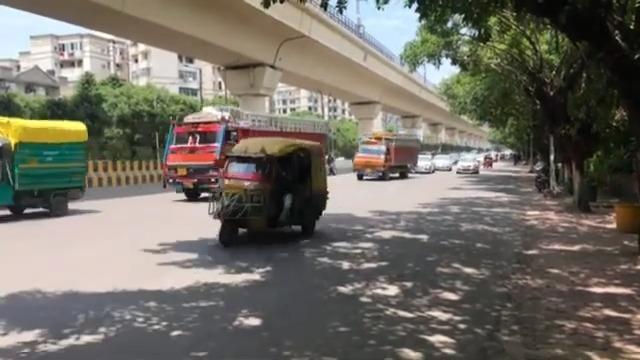Auto: (207, 125, 330, 246)
Truck: (161, 104, 329, 201), (0, 114, 88, 217), (350, 132, 420, 182)
